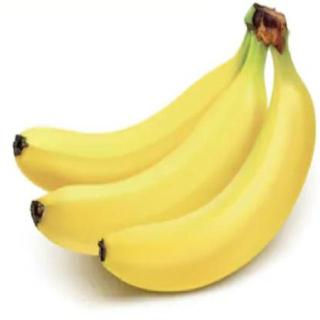banana: (96, 79, 317, 294), (28, 76, 271, 264), (11, 59, 263, 208)
